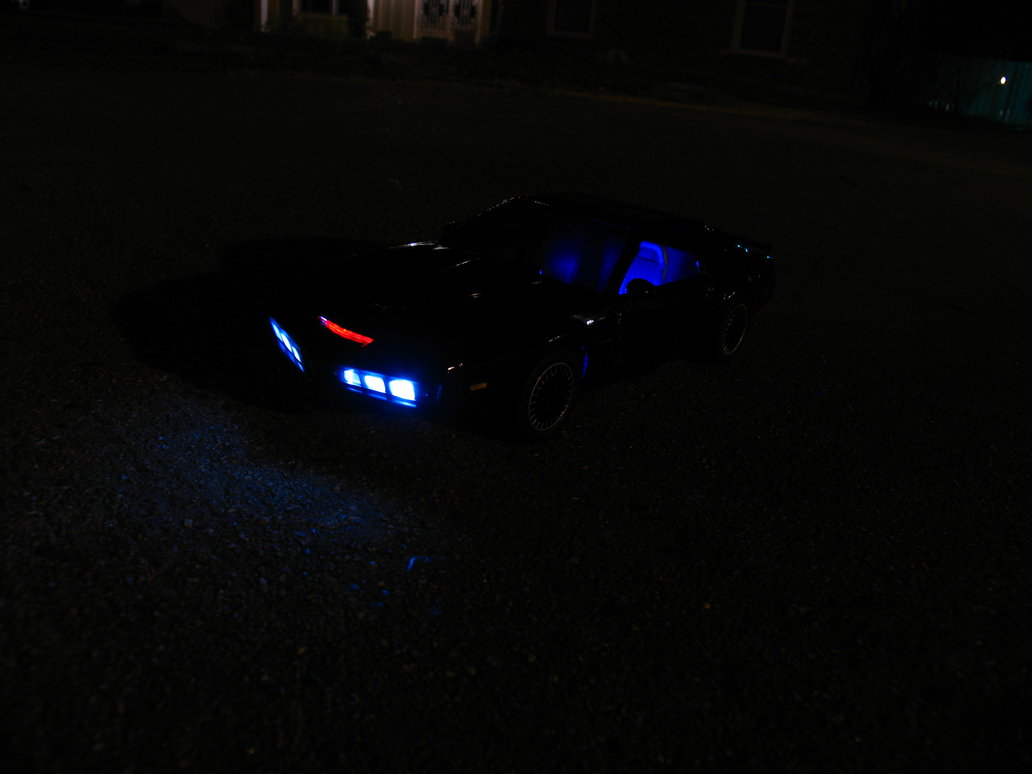car: (251, 170, 794, 463)
